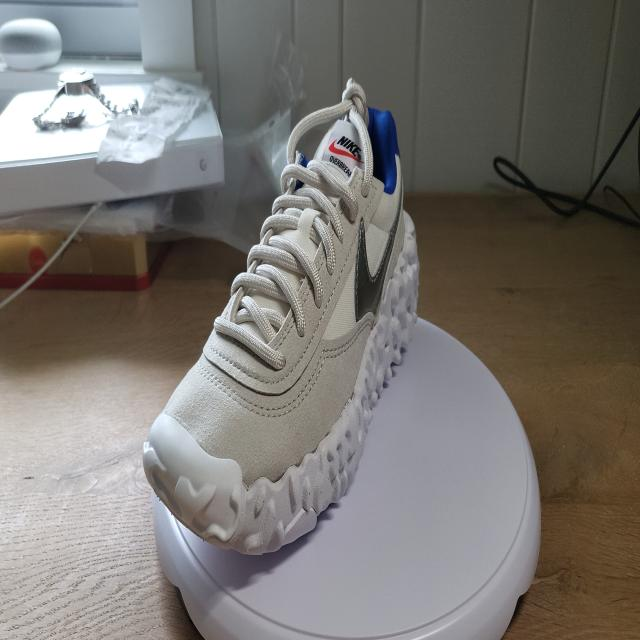shoes: (142, 77, 420, 556)
